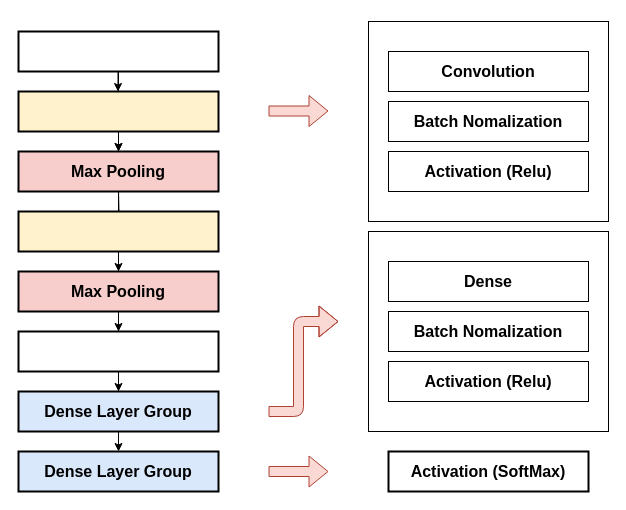
Image size: 626x510. Some labels were removed from this diagram. Each missing label, with the box of its shape:
32 Layer Group: (17, 90, 219, 132)
64 Layer Group: (17, 210, 219, 252)
Flatten: (17, 330, 219, 372)
Input Data: (17, 30, 219, 72)
x3: (368, 20, 608, 222)
